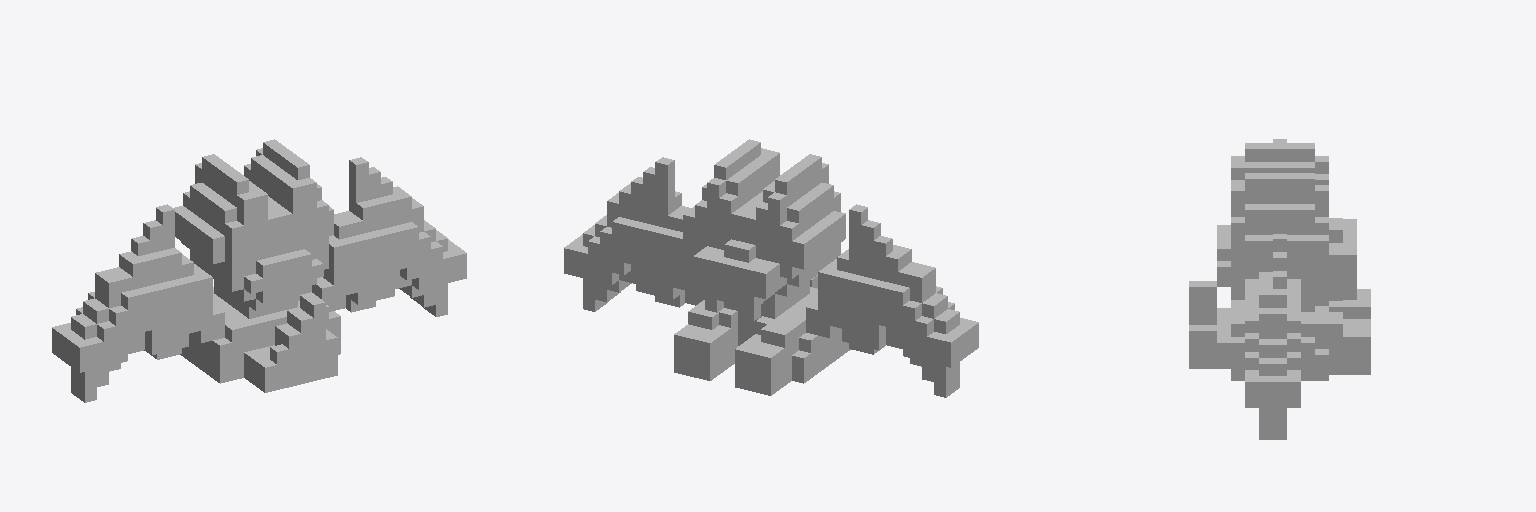
File: dragonpet 1.obj
3 views of the same model, side by side, from view 1: azimuth 30°, elevation 25°; view 2: azimuth 150°, elevation 25°; view 3: azimuth 270°, elevation 25° (orthographic).
Visible parts, largest first — view 1: object 1; view 2: object 1; view 3: object 1.
Part boxes in pixels (bbox=[...]): object 1: bbox=[52, 139, 466, 402]; object 1: bbox=[564, 139, 978, 397]; object 1: bbox=[1189, 139, 1370, 439].
Size of the model in its own units: 3.2 by 1.5 by 1.3.